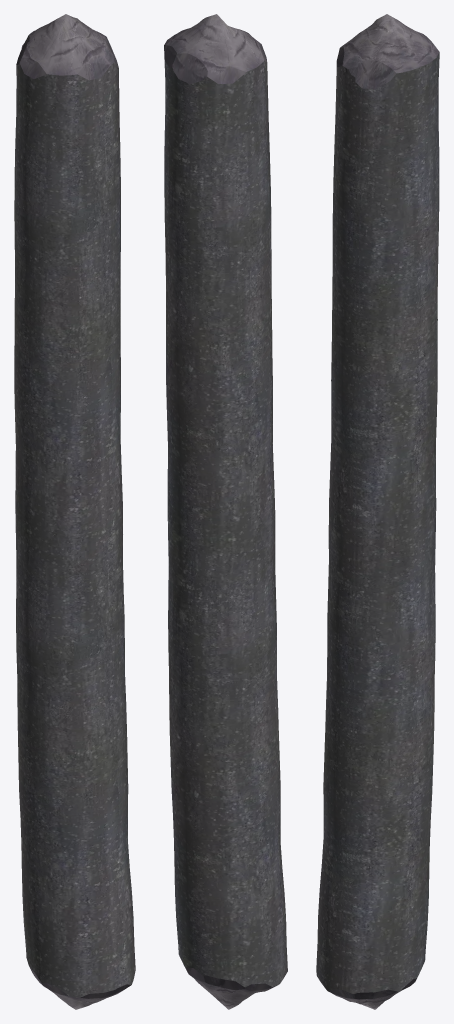
3 renders of one model, left to right at view 1: azimuth 90°, elevation 25°; view 2: azimuth 150°, elevation 25°; view 3: azimuth 330°, elevation 25°, orthographic.
Parts seen in each view (by area): view 1: SM_FH_Ash_Tree_03_half_mid_LOD0; view 2: SM_FH_Ash_Tree_03_half_mid_LOD0; view 3: SM_FH_Ash_Tree_03_half_mid_LOD0.
Part boxes in pixels (<box>): SM_FH_Ash_Tree_03_half_mid_LOD0: <box>14,14,135,1009</box>; SM_FH_Ash_Tree_03_half_mid_LOD0: <box>164,14,287,1009</box>; SM_FH_Ash_Tree_03_half_mid_LOD0: <box>316,14,439,1009</box>.
Size of the model in its own units: 0.5053 by 4.71 by 0.5229.
Materials: 1 (1 with a texture image).
